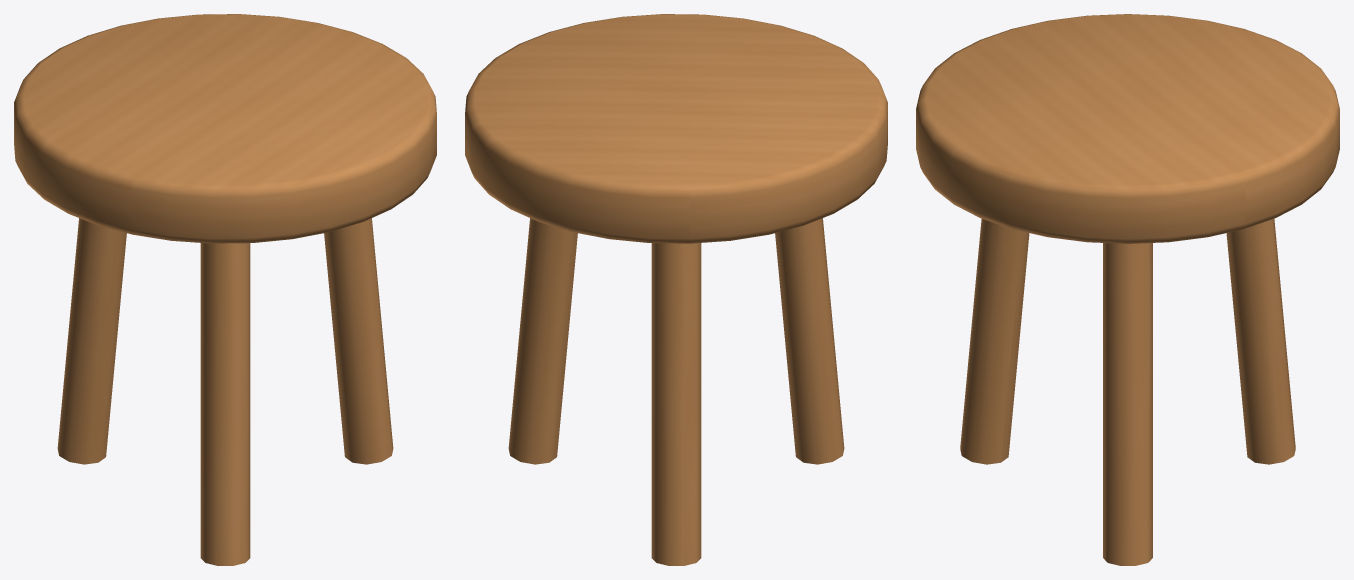
The model's file is Cafe_WoodStool.fbx.
The picture shows the model from 3 angles, left to right: view 1: azimuth 30°, elevation 25°; view 2: azimuth 150°, elevation 25°; view 3: azimuth 270°, elevation 25°; orthographic projection.
Visible parts, largest first — view 1: IMG2_ENV_Wood_Stool; view 2: IMG2_ENV_Wood_Stool; view 3: IMG2_ENV_Wood_Stool.
Part boxes in pixels (x1=…): IMG2_ENV_Wood_Stool: x1=14, y1=14, x2=436, y2=565; IMG2_ENV_Wood_Stool: x1=465, y1=14, x2=887, y2=565; IMG2_ENV_Wood_Stool: x1=916, y1=14, x2=1339, y2=565.
Bounding box in the file's own units: 46 × 46.74 × 46.
